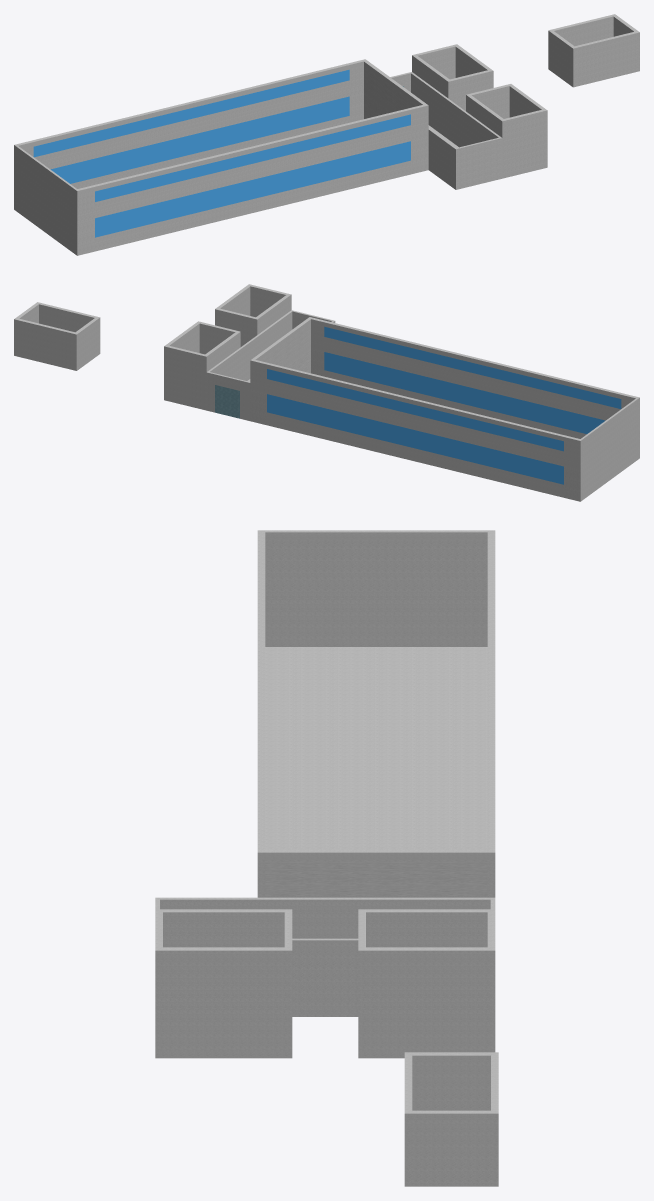
The model's file is Raw_Water_Pump_House_expansion.glb.
3 views of the same model, one above another, from view 1: azimuth 30°, elevation 25°; view 2: azimuth 150°, elevation 25°; view 3: azimuth 270°, elevation 25° (orthographic). The views are drawn at different scales.
Parts seen in each view (by area): view 1: Floor1; view 2: Floor1; view 3: Floor1.
Boxes of the visible parts, x1,y1,x2,y2 form: Floor1: [14, 14, 639, 255]; Floor1: [14, 284, 639, 501]; Floor1: [155, 530, 498, 1186].
Size of the model in its own units: 68.11 by 7.8 by 17.9.
4 materials, 4 textured.
